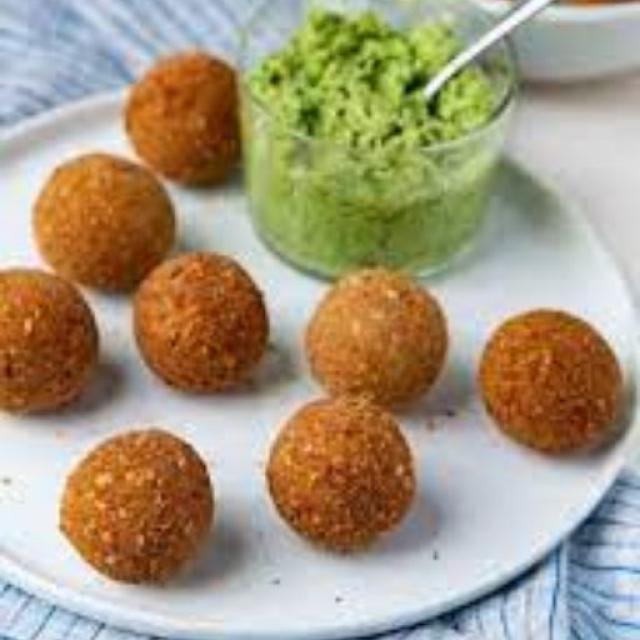Cutlet: (43, 430, 229, 582), (468, 300, 631, 463), (266, 394, 422, 557), (295, 261, 451, 406), (12, 138, 166, 279), (135, 250, 267, 390)
